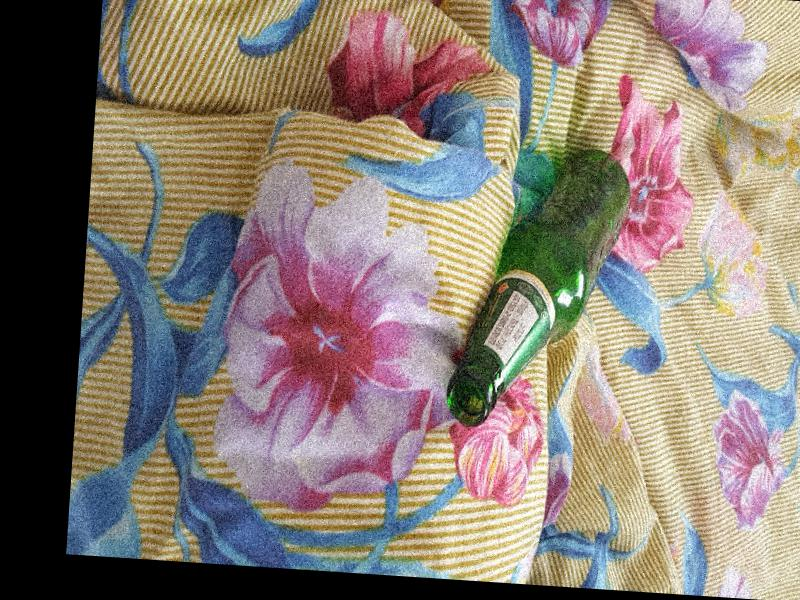Beer: (443, 144, 632, 434)
